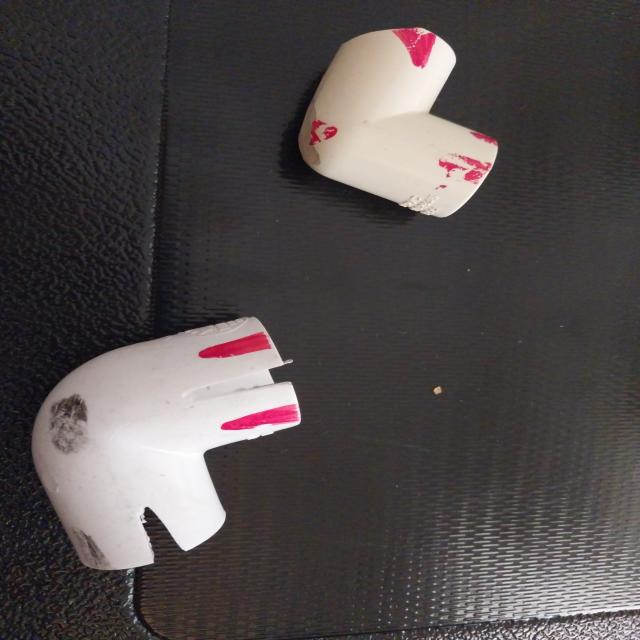Defective: (38, 406, 100, 466), (132, 508, 191, 564), (188, 338, 288, 366), (216, 406, 306, 436), (434, 148, 498, 180)
L Joint: (30, 316, 302, 574), (296, 28, 499, 220)
